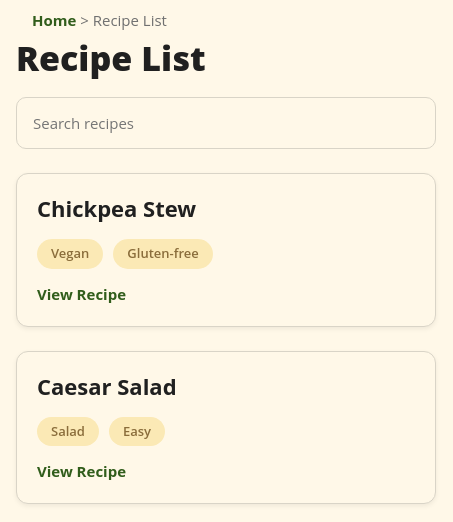
Test: RecipeListPage search › shows the empty message when nothing matches
The width and height of the screenshot is (453, 522).
Type "pizza" into the field with placeholder "Search recipes" at (226, 123), box x1=16 y1=97 x2=436 y2=149
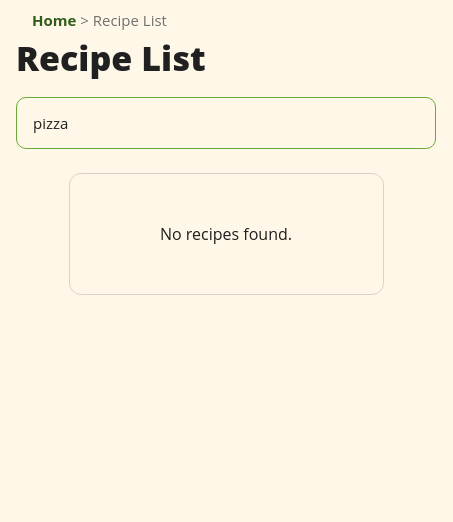
expect the text "No recipes found." is shown: met, box x1=68 y1=173 x2=384 y2=295
